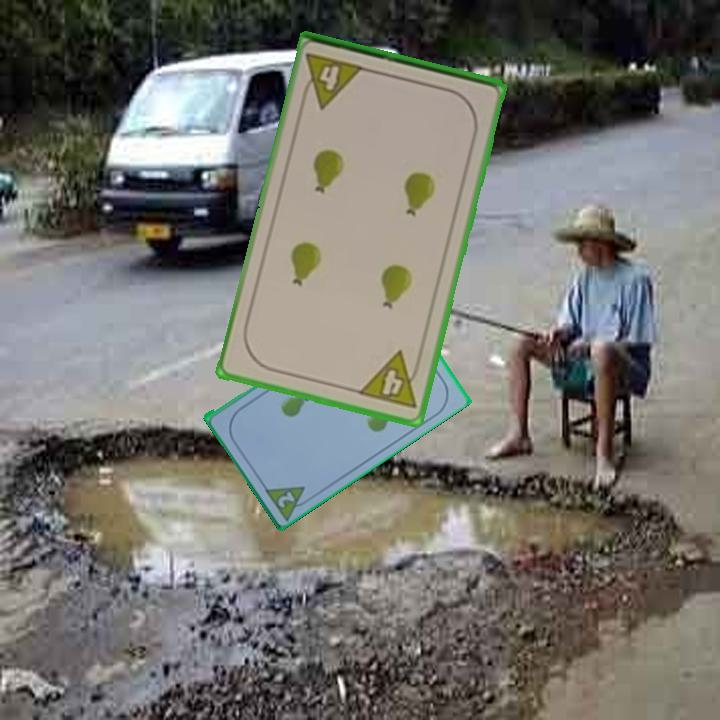2p: (260, 482, 316, 522)
4p: (354, 347, 425, 412), (298, 49, 367, 112)
